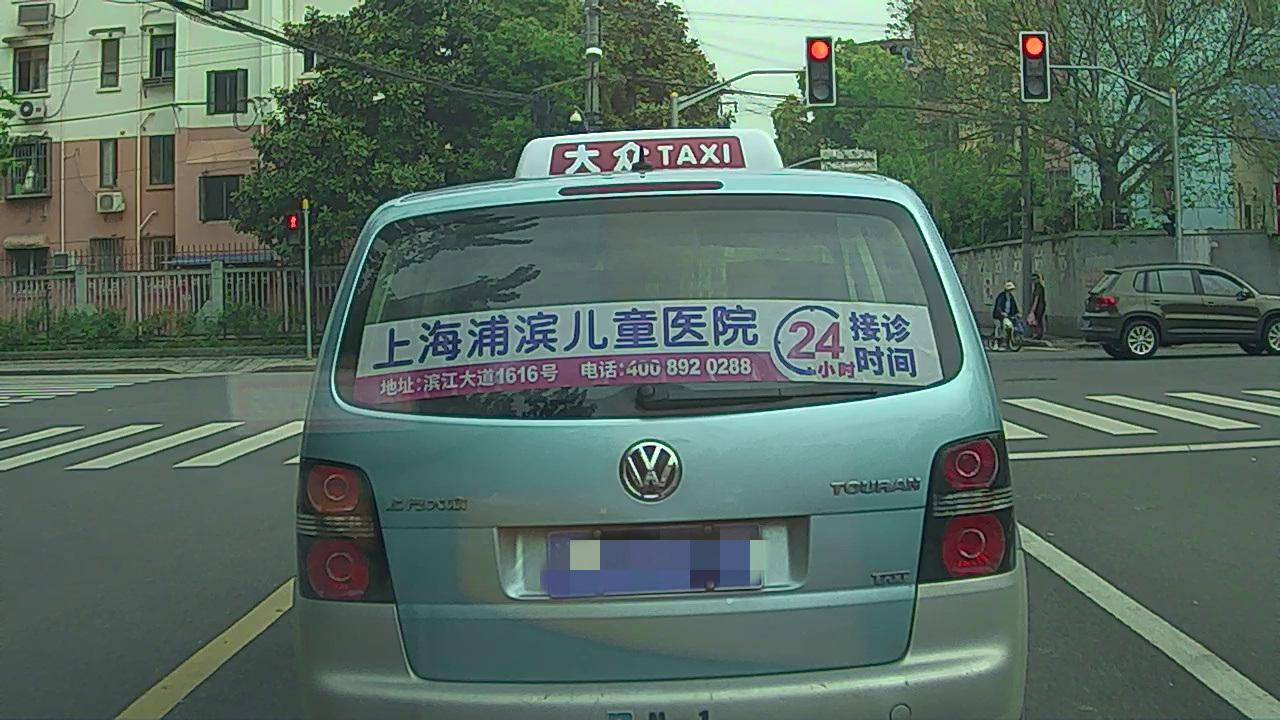traffic_light: (807, 36, 835, 106), (1020, 35, 1049, 100)
